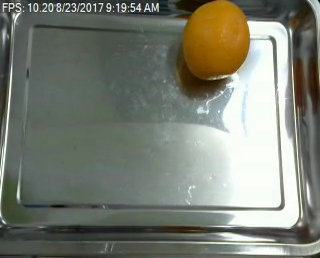Orange: (181, 1, 251, 79)
